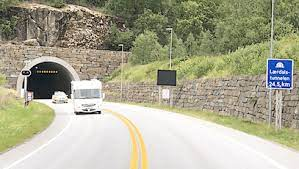led_screen: (156, 68, 178, 83)
roadside_plant: (114, 0, 299, 78), (140, 96, 299, 146), (0, 95, 53, 144)
tunnel_entrance: (17, 56, 83, 101)
warning_sign: (267, 58, 299, 91)
